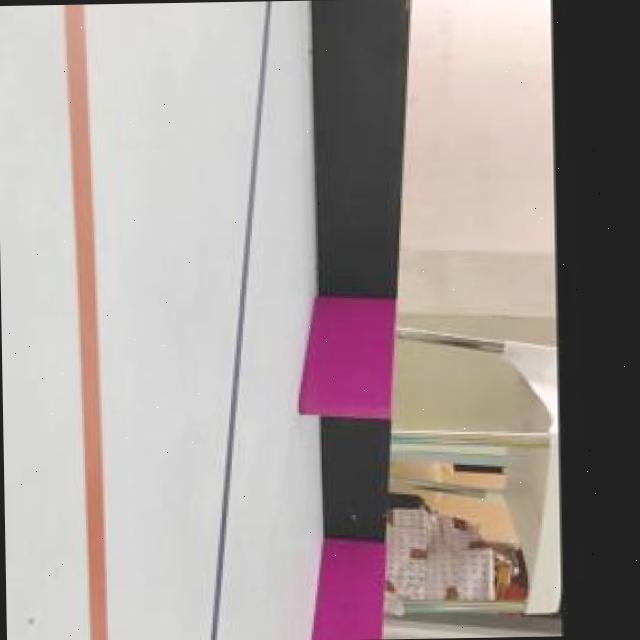xparking: (311, 306, 387, 418), (318, 545, 377, 640)
